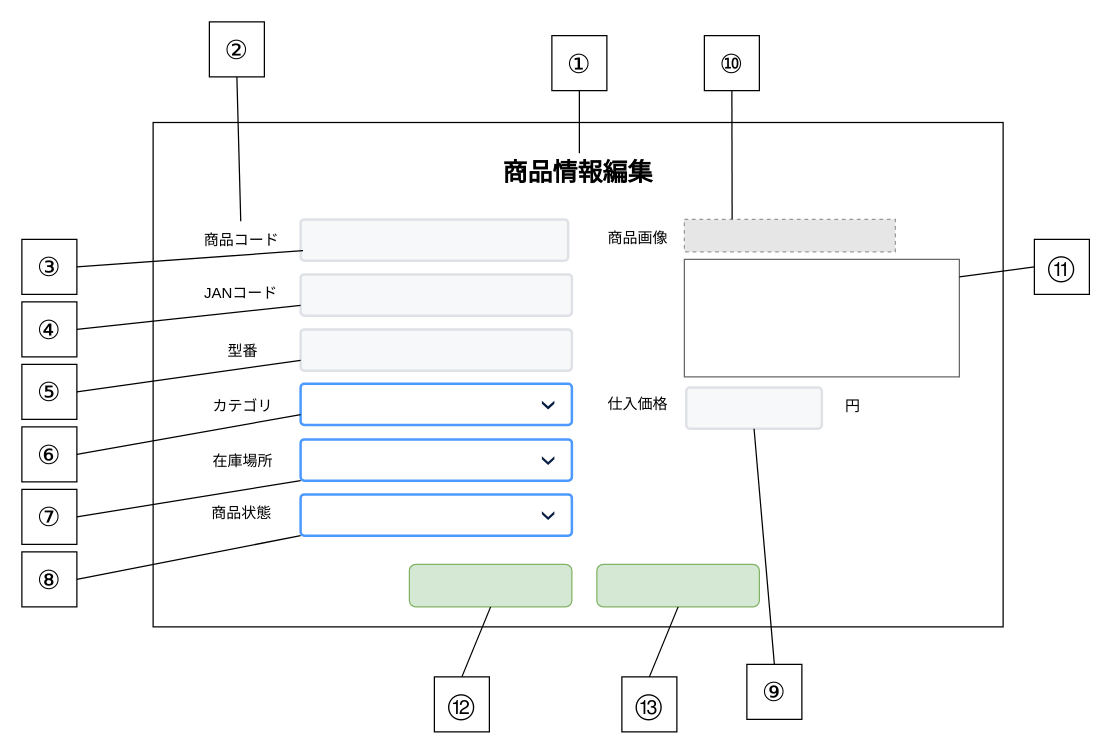
Image size: 1111x754. Some labels were removed from this diagram. Grey dashed boxes stand in for pictures. Each missing label, with the centre of its shape:
"削除" belongs at (677,585).
"更新" belongs at (490,585).
"画像" belongs at (821,317).
